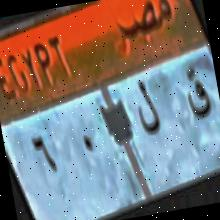0: (80, 130, 100, 158)
6: (29, 128, 61, 187)
laam: (131, 77, 164, 145)
qaaf: (180, 62, 217, 130)
